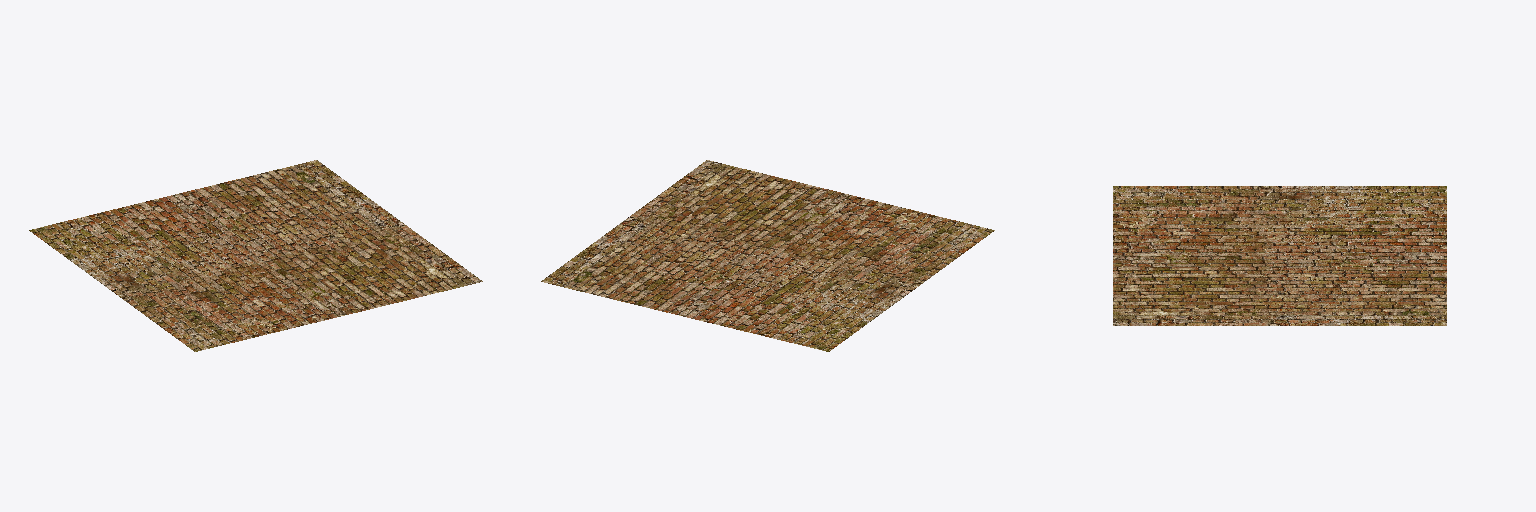
3 renders of one model, left to right at view 1: azimuth 30°, elevation 25°; view 2: azimuth 150°, elevation 25°; view 3: azimuth 270°, elevation 25°, orthographic.
Visible parts, largest first — view 1: Plane.001; view 2: Plane.001; view 3: Plane.001.
Part boxes in pixels (bbox=[...]): Plane.001: bbox=[29, 160, 482, 351]; Plane.001: bbox=[541, 160, 994, 351]; Plane.001: bbox=[1113, 186, 1446, 325].
Size of the model in its own units: 2 by 0 by 2.
1 materials, 1 textured.